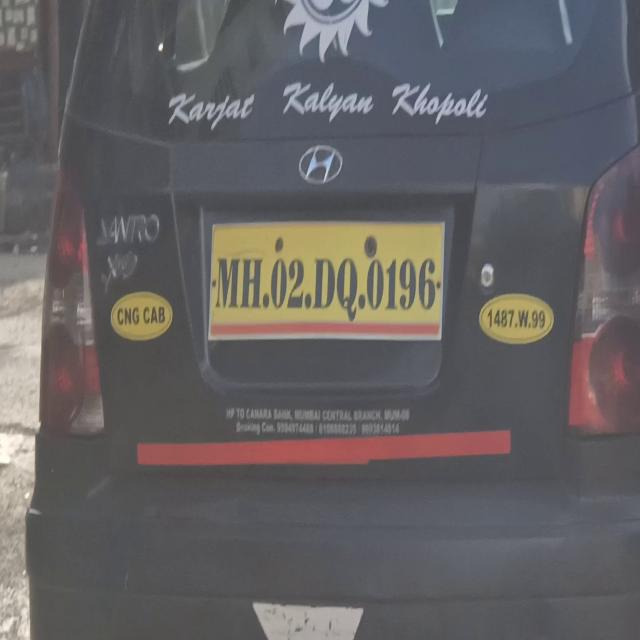license-plate: (207, 218, 446, 339)
